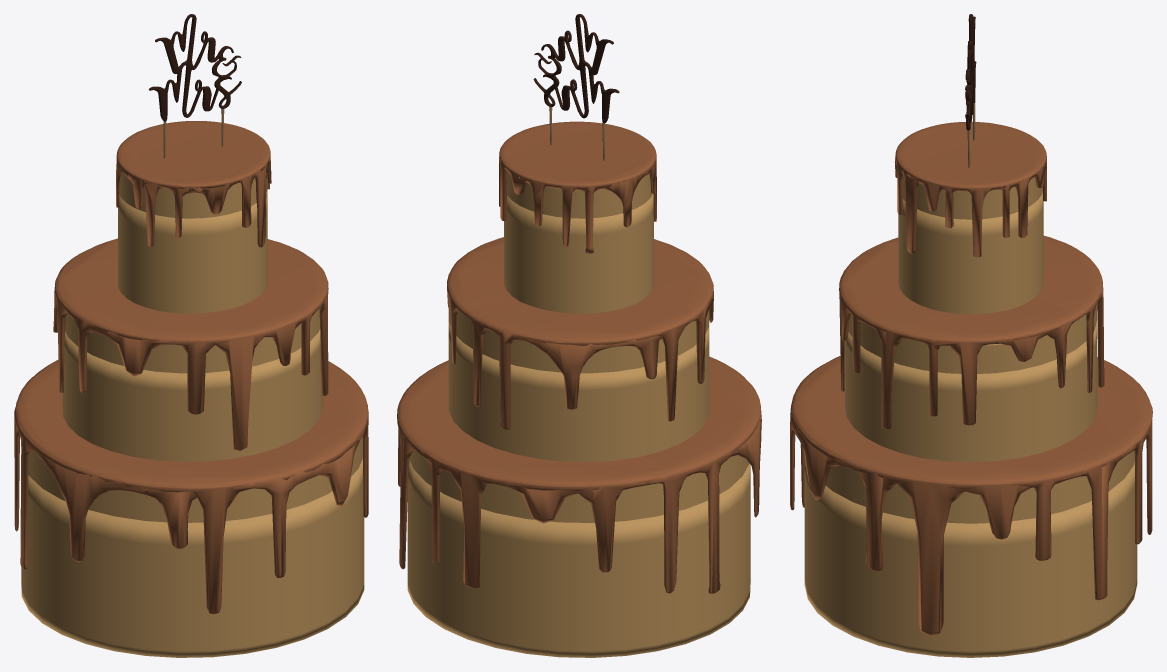
Rendered from 3-tier-caramel-ganache-mrms.glb.
3 views of the same model, side by side, from view 1: azimuth 30°, elevation 25°; view 2: azimuth 150°, elevation 25°; view 3: azimuth 270°, elevation 25° (orthographic).
Visible parts, largest first — view 1: Cylinder.022, tHE ICING.005, Cylinder.014, tHE ICING.002, Cylinder.021, tHE ICING.001, mrms.003; view 2: Cylinder.022, tHE ICING.005, Cylinder.014, tHE ICING.002, Cylinder.021, tHE ICING.001, mrms.003; view 3: Cylinder.022, tHE ICING.005, Cylinder.014, tHE ICING.002, Cylinder.021, tHE ICING.001, mrms.003.
Part boxes in pixels (box(x1,y1,x2,y2)): Cylinder.022: box(21, 436, 364, 657); tHE ICING.005: box(14, 360, 368, 614); Cylinder.014: box(62, 309, 323, 461); tHE ICING.002: box(53, 238, 328, 451); Cylinder.021: box(118, 173, 267, 313); tHE ICING.001: box(116, 121, 271, 247); mrms.003: box(148, 14, 241, 158); Cylinder.022: box(407, 450, 750, 657); tHE ICING.005: box(397, 356, 761, 593); Cylinder.014: box(448, 297, 709, 462); tHE ICING.002: box(447, 237, 713, 429); Cylinder.021: box(504, 171, 653, 313); tHE ICING.001: box(499, 121, 656, 253); mrms.003: box(533, 14, 619, 160); Cylinder.022: box(804, 451, 1137, 657); tHE ICING.005: box(790, 356, 1152, 636); Cylinder.014: box(844, 303, 1097, 462); tHE ICING.002: box(839, 235, 1104, 429); Cylinder.021: box(898, 175, 1043, 314); tHE ICING.001: box(895, 121, 1046, 257); mrms.003: box(965, 14, 976, 167).
Bounding box in the file's own units: 4.33 × 7.67 × 4.43.
